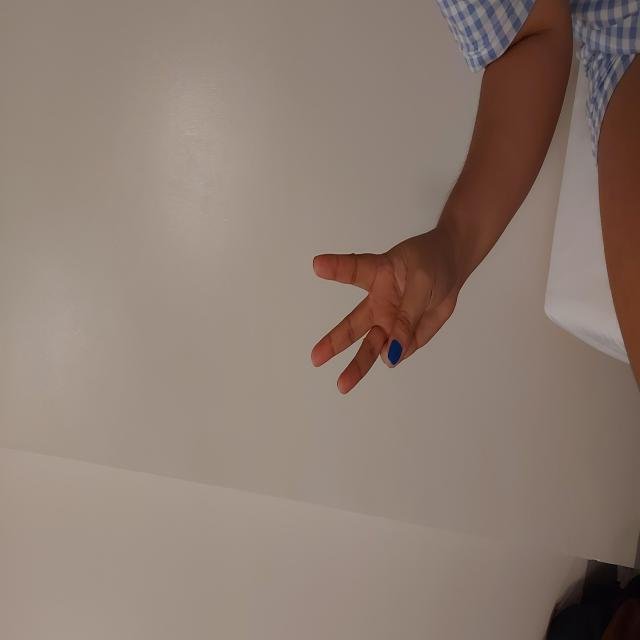W: (243, 309, 412, 459)
